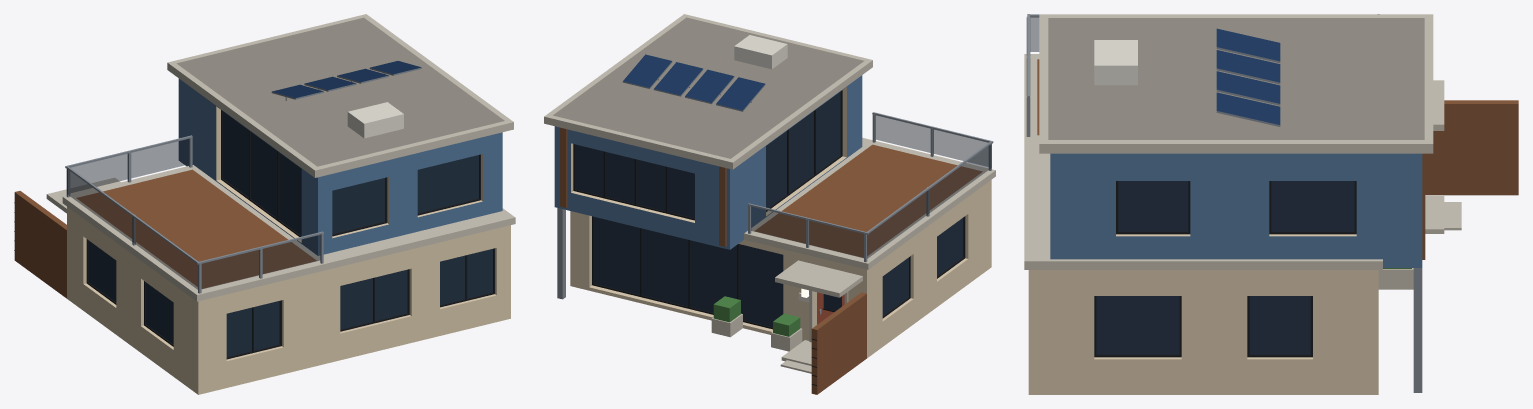
The model's file is bld_house_b.glb.
The picture shows the model from 3 angles, left to right: view 1: azimuth 30°, elevation 25°; view 2: azimuth 150°, elevation 25°; view 3: azimuth 270°, elevation 25°; orthographic projection. The views are drawn at different scales.
Parts seen in each view (by area): view 1: Body; view 2: Body; view 3: Body.
Boxes of the visible parts, <box> form: Body: <box>14,14,515,394</box>; Body: <box>544,14,995,394</box>; Body: <box>1024,14,1518,394</box>.
Size of the model in its own units: 11.35 by 6.95 by 11.3.
